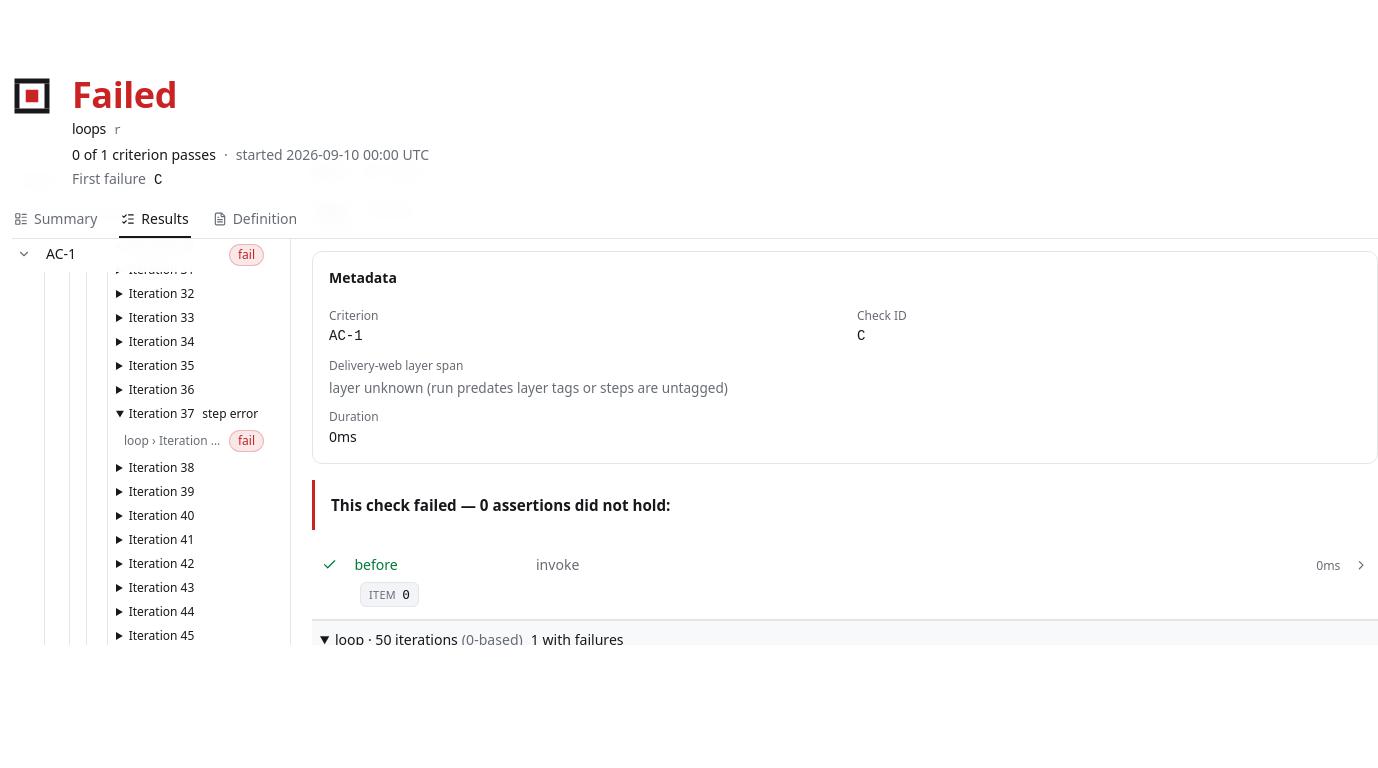
Test: groups 50 iterations in the timeline and sidebar, opening only failure 37
The image size is (1378, 768).
(page scrolled)
Expected: the heading "loop · 50 iterations(0-based)1 with failures" is shown, [335,630,624,645]
Click the link "loop › Iteration 37 fail" at (194, 441), box [116,426,272,456]
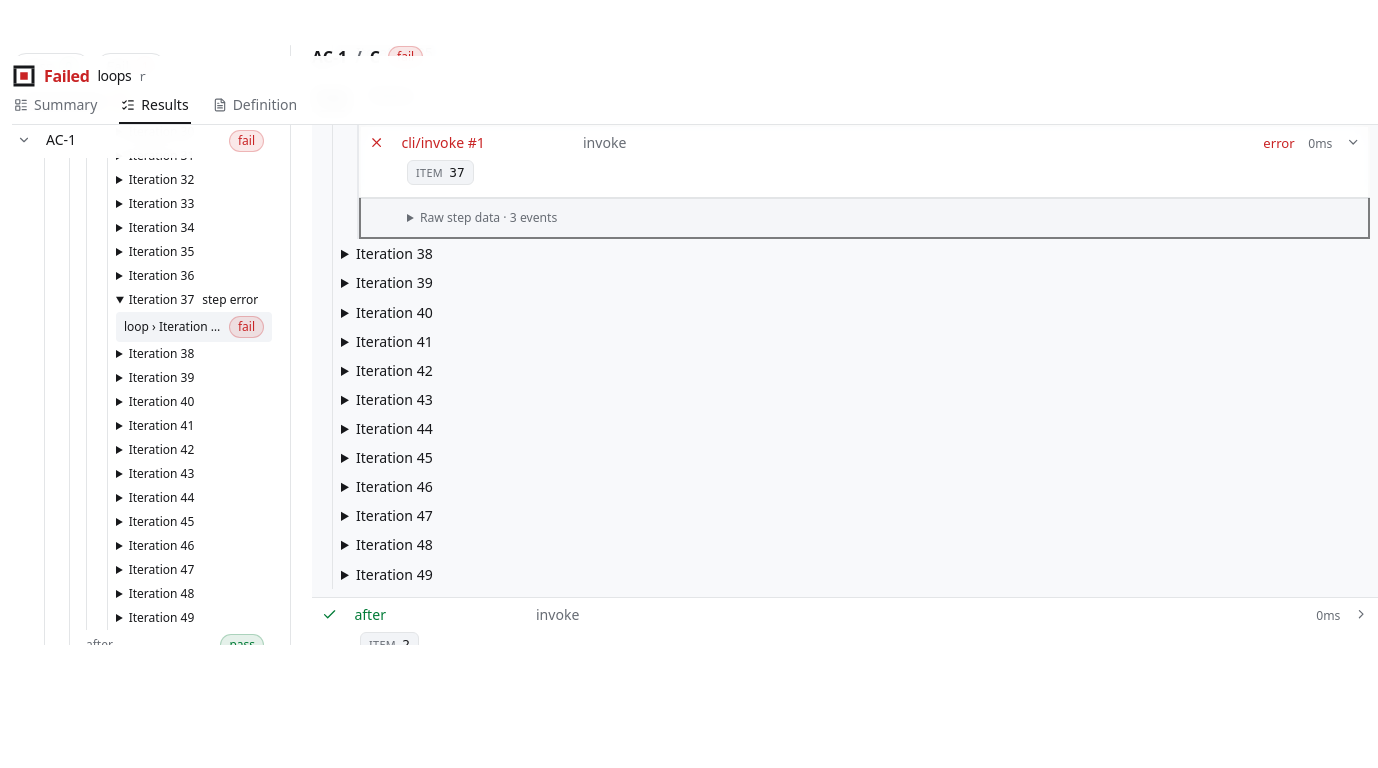
Now the number of list items with class "step-selected" is 1, box [359,125,1370,239]
